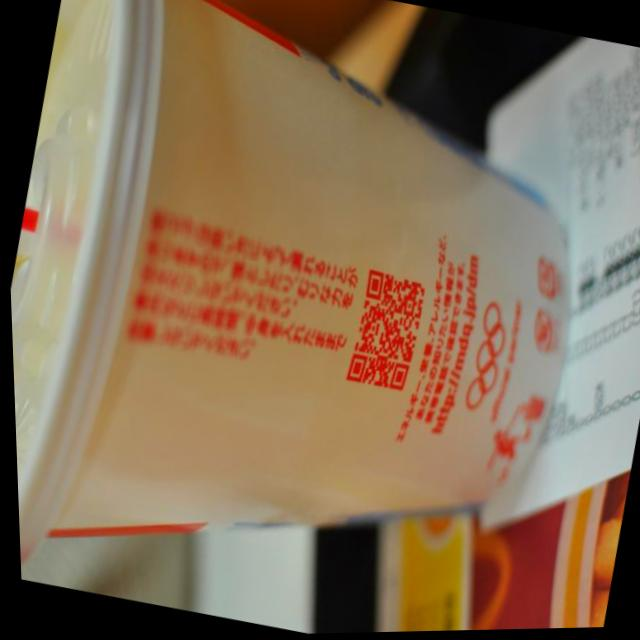qrcode: (341, 270, 428, 394)
